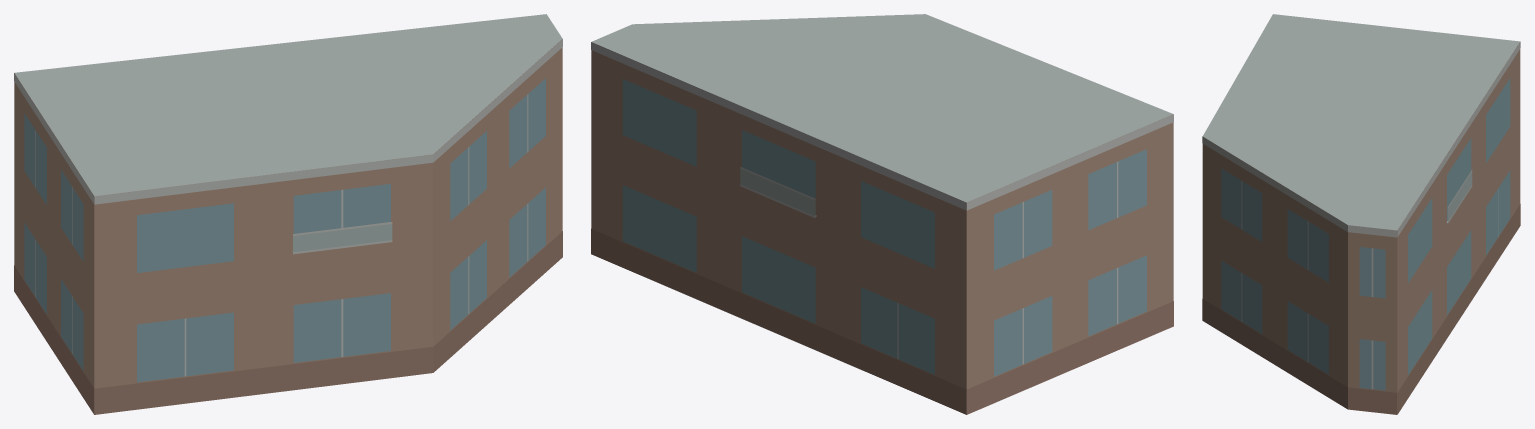
File: survey-upis-32494777.glb
3 renders of one model, left to right at view 1: azimuth 30°, elevation 25°; view 2: azimuth 150°, elevation 25°; view 3: azimuth 270°, elevation 25°, orthographic. The views are drawn at different scales.
Parts seen in each view (by area): view 1: survey-upis-32494777.tmp; view 2: survey-upis-32494777.tmp; view 3: survey-upis-32494777.tmp.
Boxes of the visible parts, bbox=[...] form: survey-upis-32494777.tmp: bbox=[14, 14, 562, 414]; survey-upis-32494777.tmp: bbox=[591, 14, 1173, 414]; survey-upis-32494777.tmp: bbox=[1202, 14, 1520, 414].
Bounding box in the file's own units: 16.13 × 6.4 × 10.01.
